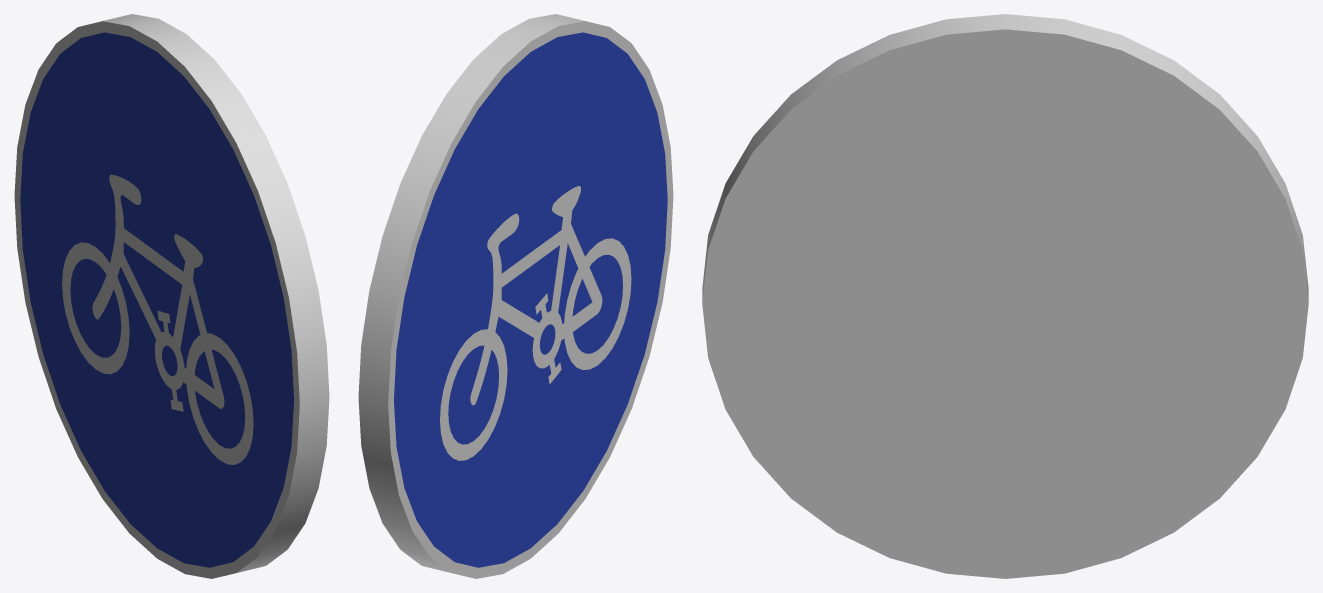
The model's file is Non_MotorVehicle_Driving.fbx.
The picture shows the model from 3 angles, left to right: view 1: azimuth 30°, elevation 25°; view 2: azimuth 150°, elevation 25°; view 3: azimuth 270°, elevation 25°; orthographic projection. The views are drawn at different scales.
Visible parts, largest first — view 1: Non_MotorVehicle_Driving; view 2: Non_MotorVehicle_Driving; view 3: Non_MotorVehicle_Driving.
Part boxes in pixels (left/top/right/bottom): Non_MotorVehicle_Driving: left=14, top=14, right=329, bottom=578; Non_MotorVehicle_Driving: left=358, top=14, right=673, bottom=578; Non_MotorVehicle_Driving: left=702, top=14, right=1308, bottom=578.
Size of the model in its own units: 0.0643 by 1 by 1.
